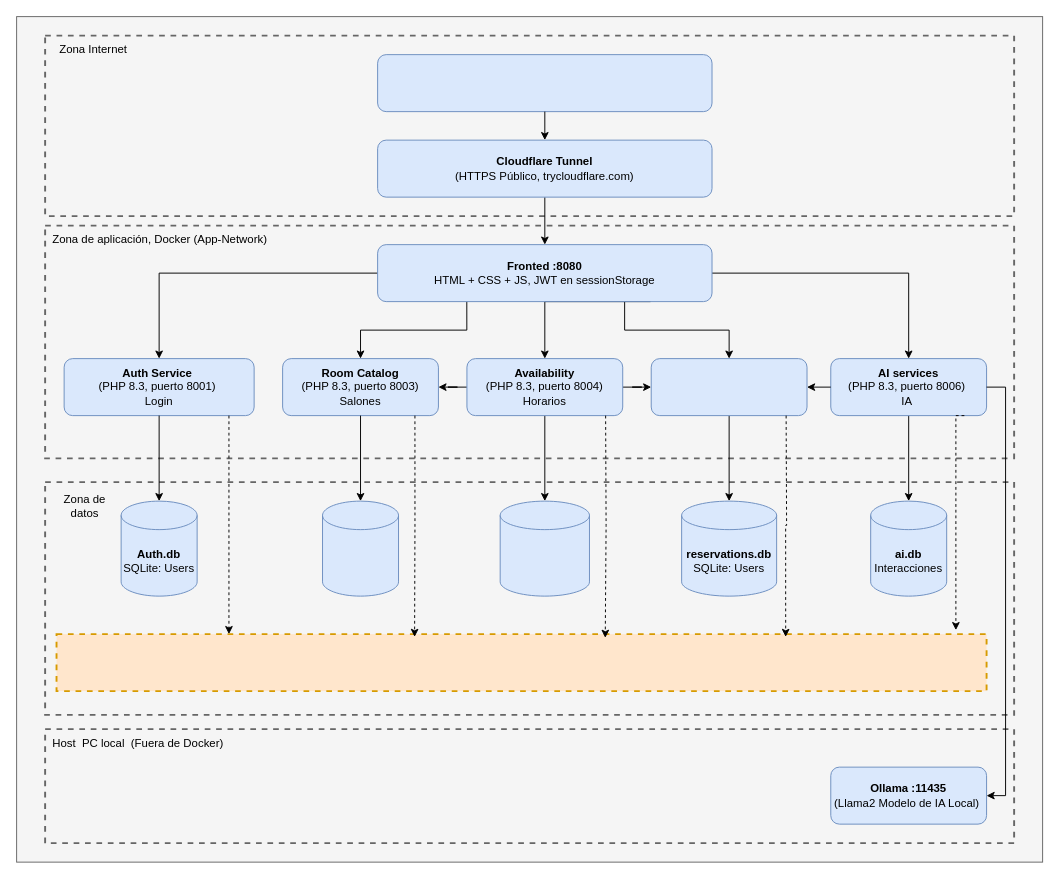
Some shapes in this 1059 by 879 pixel diagram are drawn without their labels. Here are the shapes that lost their labels. From the top down, the centre of each, then its label:
pixel 544 83: Usuarios (Docentes, Estudiantes, Administrador)
pixel 728 387: Reservations (PHP 8.3, puerto 8005) Reservas
pixel 360 548: catalog.db SQLite: rooms
pixel 544 548: Availability.db SQLite: cache
pixel 521 662: JWT_SECRET compartido - Auth firma, los demás verifican
